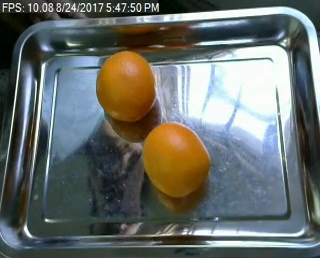Orange: (142, 121, 209, 197), (97, 50, 154, 120)
